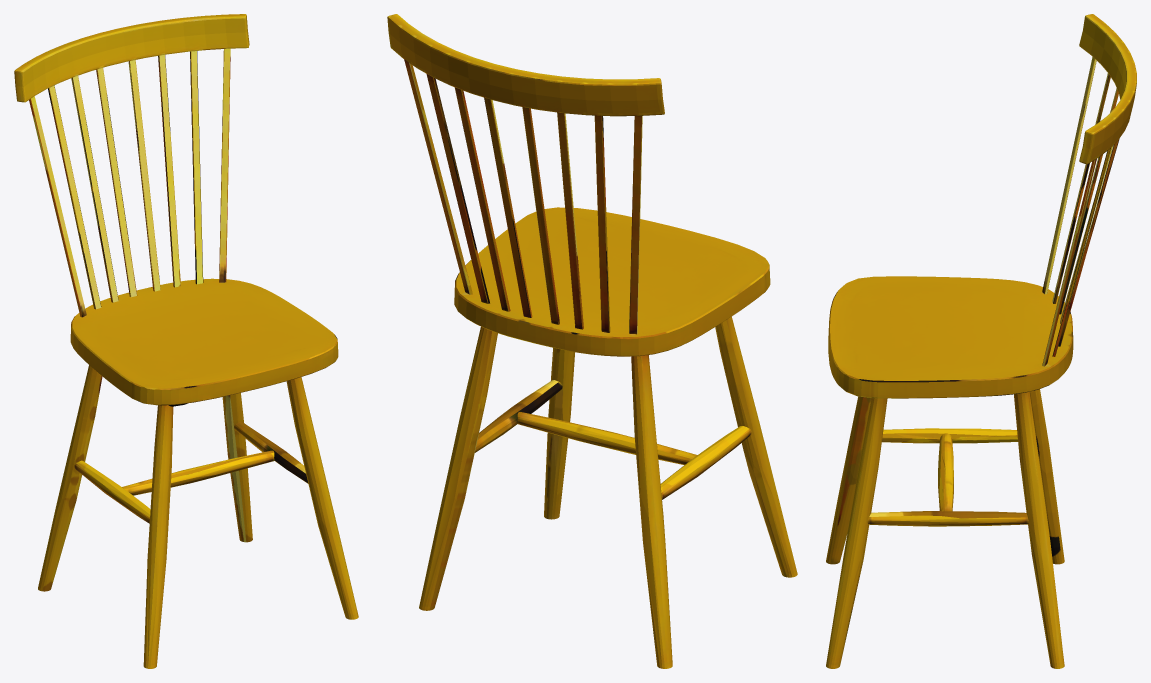
The model's file is edited_mesh.glb.
3 views of the same model, side by side, from view 1: azimuth 30°, elevation 25°; view 2: azimuth 150°, elevation 25°; view 3: azimuth 270°, elevation 25° (orthographic). The views are drawn at different scales.
Parts seen in each view (by area): view 1: normalized_model.obj; view 2: normalized_model.obj; view 3: normalized_model.obj.
Part boxes in pixels (x1=…): normalized_model.obj: x1=14, y1=14, x2=358, y2=668; normalized_model.obj: x1=387, y1=14, x2=797, y2=668; normalized_model.obj: x1=826, y1=14, x2=1136, y2=668.
Size of the model in its own units: 0.7566 by 1.59 by 0.8261.
Materials: 1 (1 with a texture image).
